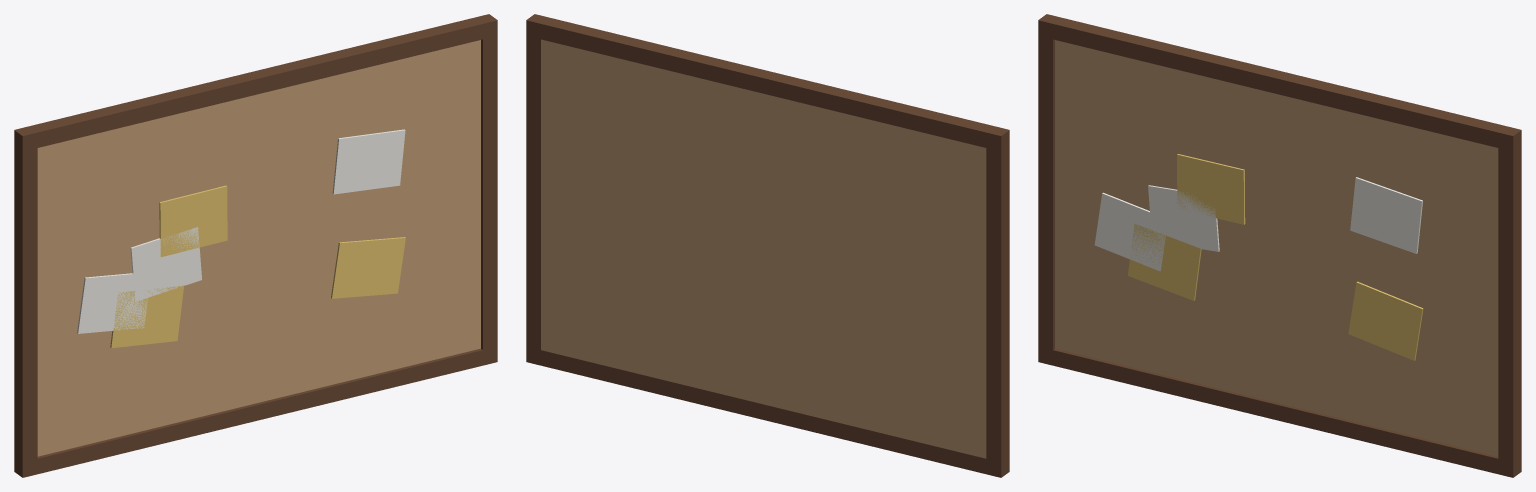
File: Corkboard.fbx
3 views of the same model, side by side, from view 1: azimuth 30°, elevation 25°; view 2: azimuth 150°, elevation 25°; view 3: azimuth 330°, elevation 25° (orthographic).
Visible parts, largest first — view 1: CorkboardBody; view 2: CorkboardBody; view 3: CorkboardBody.
Boxes of the visible parts, box(x1,y1,x2,y2) form: CorkboardBody: box(14, 14, 497, 477); CorkboardBody: box(526, 14, 1009, 477); CorkboardBody: box(1038, 14, 1521, 477).
Size of the model in its own units: 1.28 by 0.88 by 0.04.
